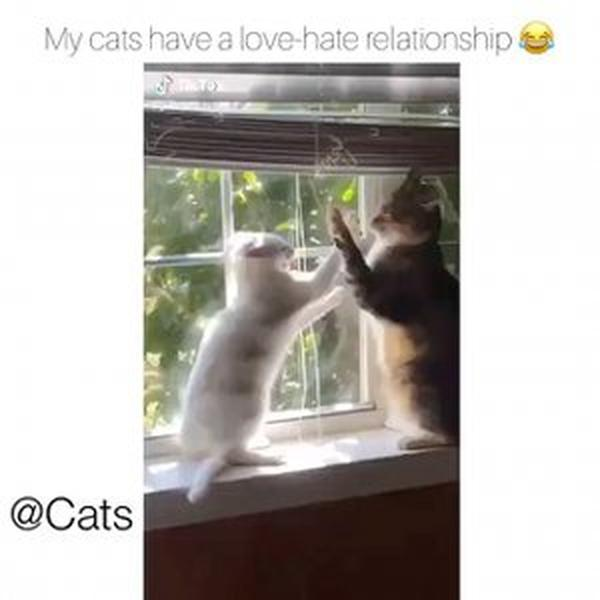michi: (159, 223, 332, 490), (344, 163, 467, 461)
